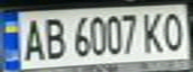0: (87, 12, 106, 57), (106, 11, 124, 56)
6: (69, 12, 90, 59)
7: (121, 10, 142, 55)
A: (18, 15, 48, 62)
B: (39, 15, 69, 61)
K: (139, 9, 169, 54)
O: (160, 8, 190, 53)
